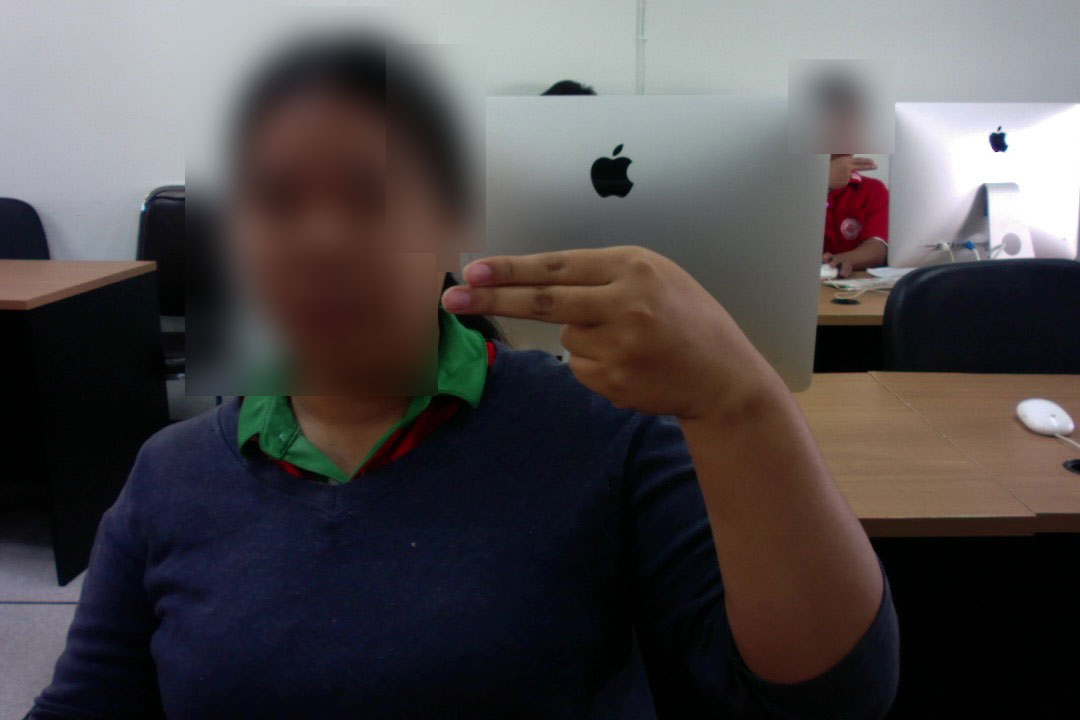hor: (431, 241, 763, 421)
